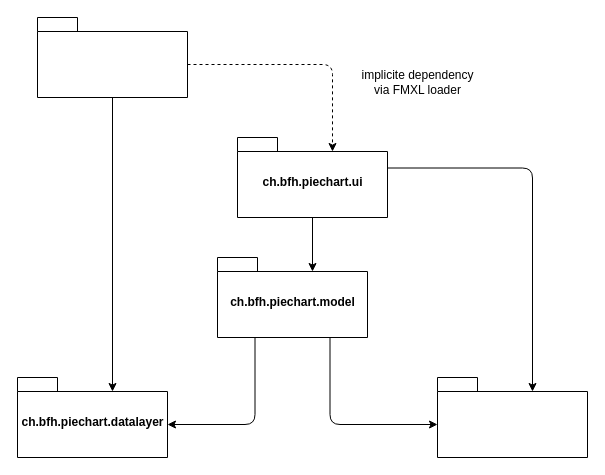
The diagram is 605 pixels wide and 475 high, and some of its shapes have lost their labels. The centre of each missing label's shape, as x and y in pixels:
ch.bfh.matrix: point 512,417
ch.bfh.piechart: point 112,57
